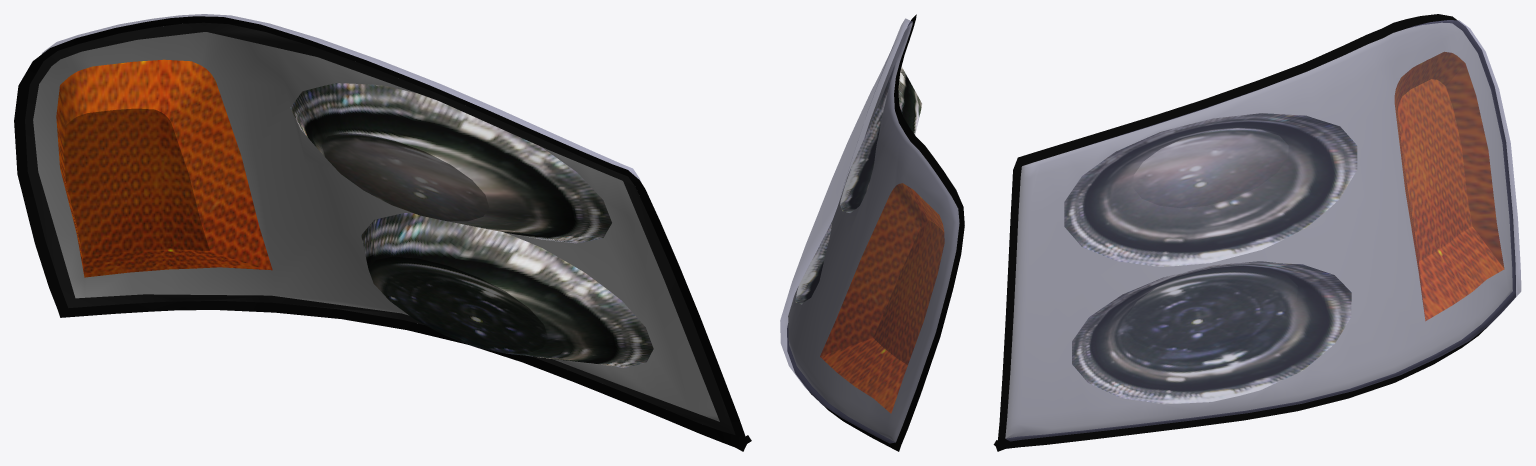
3 views of the same model, side by side, from view 1: azimuth 30°, elevation 25°; view 2: azimuth 150°, elevation 25°; view 3: azimuth 270°, elevation 25° (orthographic). The views are drawn at different scales.
Parts seen in each view (by area): view 1: U721_061B_L_U721_061B_L_3_DaS, U721_061B_L_U721_061B_L_4_N, U721_061B_L_U721_061B_L_6_N, U721_061B_L_U721_061B_L_2_N, U721_061B_L_U721_061B_L_7_D, U721_061B_L_U721_061B_L_5_D, U721_061B_L_1_DTaSI_U721_061B_L; view 2: U721_061B_L_1_DTaSI_U721_061B_L, U721_061B_L_U721_061B_L_3_DaS, U721_061B_L_U721_061B_L_4_N, U721_061B_L_U721_061B_L_7_D, U721_061B_L_U721_061B_L_6_N, U721_061B_L_U721_061B_L_2_N; view 3: U721_061B_L_1_DTaSI_U721_061B_L, U721_061B_L_U721_061B_L_3_DaS, U721_061B_L_U721_061B_L_6_N, U721_061B_L_U721_061B_L_2_N, U721_061B_L_U721_061B_L_4_N, U721_061B_L_U721_061B_L_7_D.
Part boxes in pixels (bbox=[...]): U721_061B_L_U721_061B_L_3_DaS: bbox=[33, 32, 719, 421]; U721_061B_L_U721_061B_L_4_N: bbox=[56, 59, 272, 277]; U721_061B_L_U721_061B_L_6_N: bbox=[290, 83, 611, 243]; U721_061B_L_U721_061B_L_2_N: bbox=[361, 213, 653, 367]; U721_061B_L_U721_061B_L_7_D: bbox=[14, 16, 751, 451]; U721_061B_L_U721_061B_L_5_D: bbox=[25, 22, 735, 434]; U721_061B_L_1_DTaSI_U721_061B_L: bbox=[42, 14, 641, 182]; U721_061B_L_1_DTaSI_U721_061B_L: bbox=[780, 18, 959, 443]; U721_061B_L_U721_061B_L_3_DaS: bbox=[788, 22, 959, 441]; U721_061B_L_U721_061B_L_4_N: bbox=[820, 183, 944, 413]; U721_061B_L_U721_061B_L_7_D: bbox=[787, 14, 964, 451]; U721_061B_L_U721_061B_L_6_N: bbox=[840, 59, 921, 212]; U721_061B_L_U721_061B_L_2_N: bbox=[795, 221, 832, 304]; U721_061B_L_1_DTaSI_U721_061B_L: bbox=[1005, 20, 1521, 441]; U721_061B_L_U721_061B_L_3_DaS: bbox=[1005, 22, 1512, 438]; U721_061B_L_U721_061B_L_6_N: bbox=[1064, 113, 1357, 266]; U721_061B_L_U721_061B_L_2_N: bbox=[1072, 261, 1351, 404]; U721_061B_L_U721_061B_L_4_N: bbox=[1394, 52, 1504, 320]; U721_061B_L_U721_061B_L_7_D: bbox=[993, 14, 1515, 451].
Bounding box in the file's own units: 36.67 × 27.48 × 44.79.
